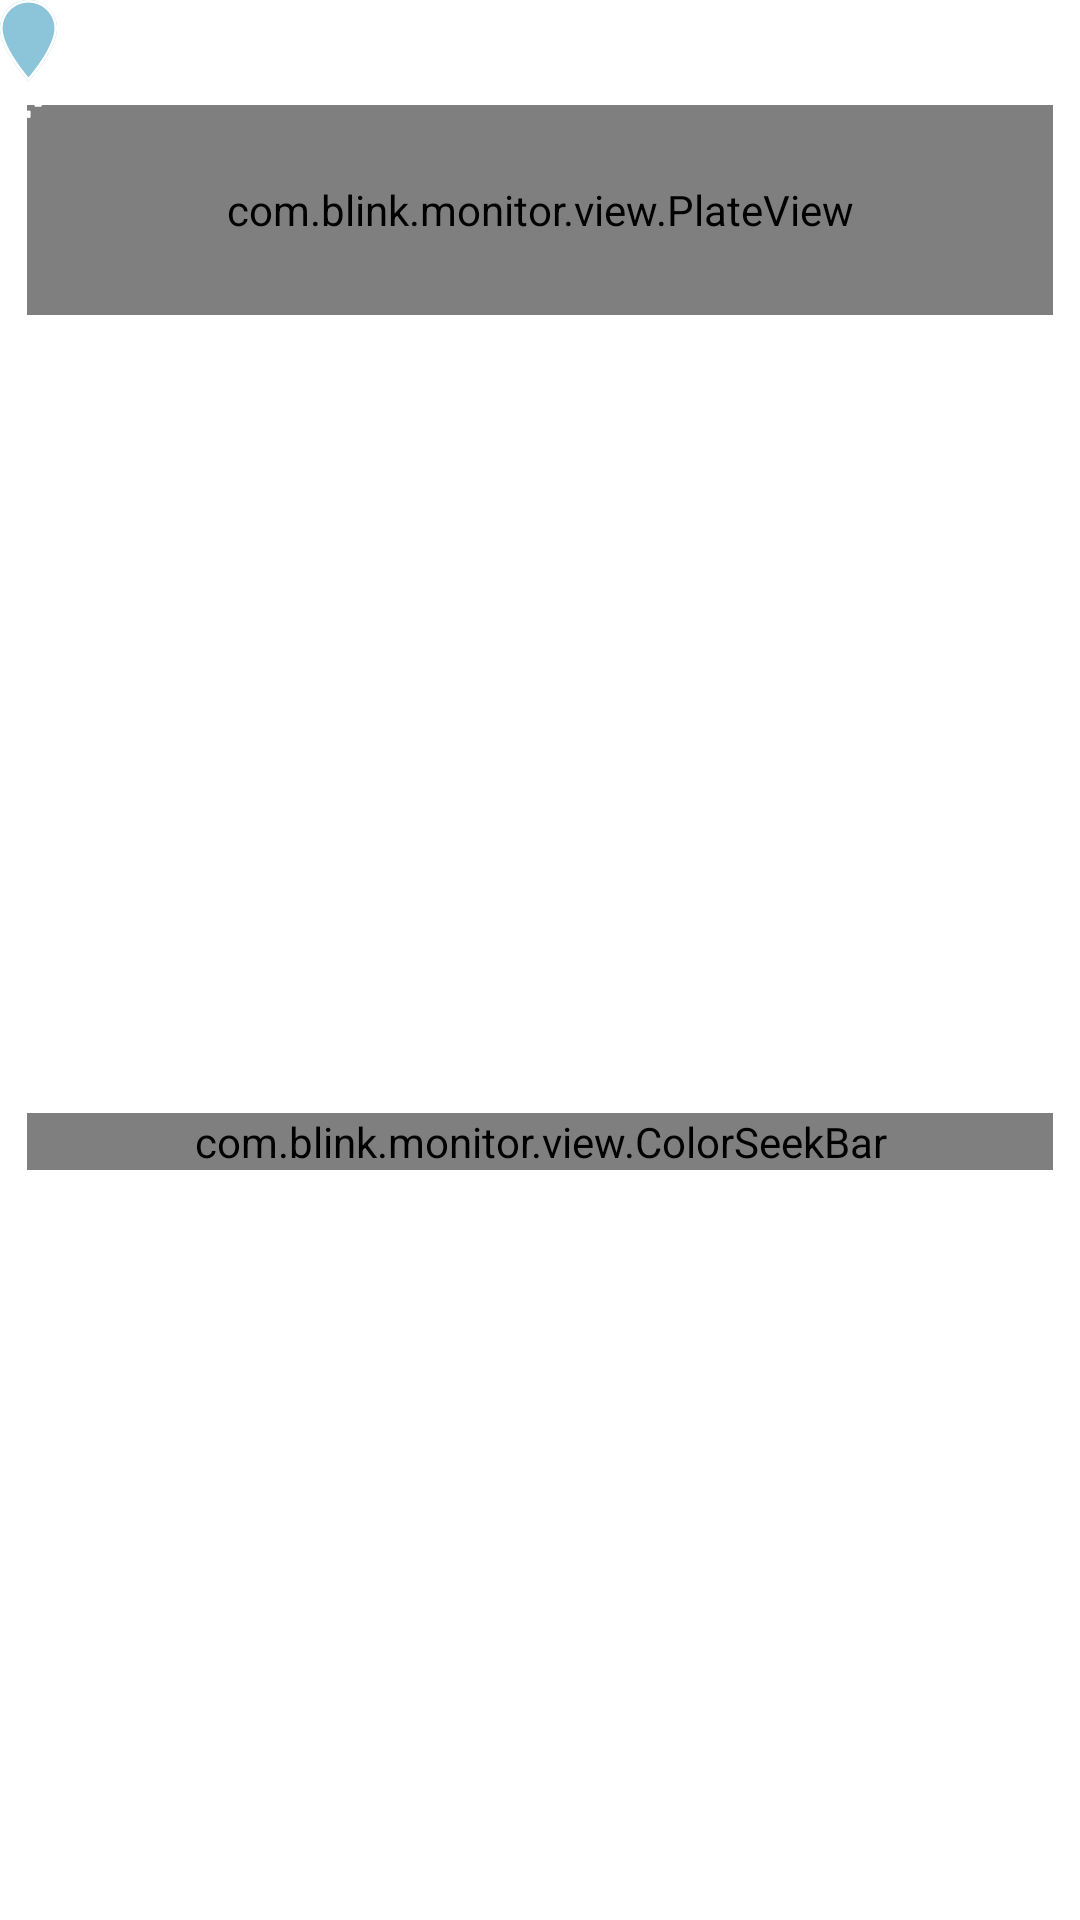

Named icons in this screenshot (1080×1920) and their centers, point (x, y):
plate cursor: point (28, 40)
